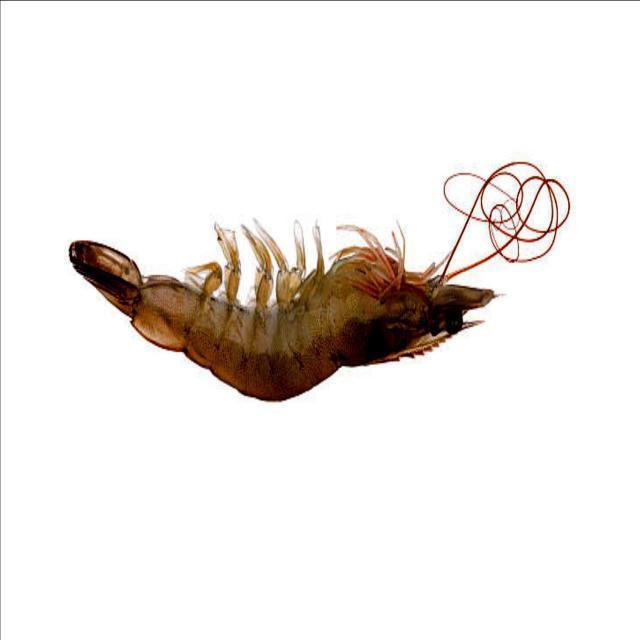shrimp: (69, 223, 493, 400)
